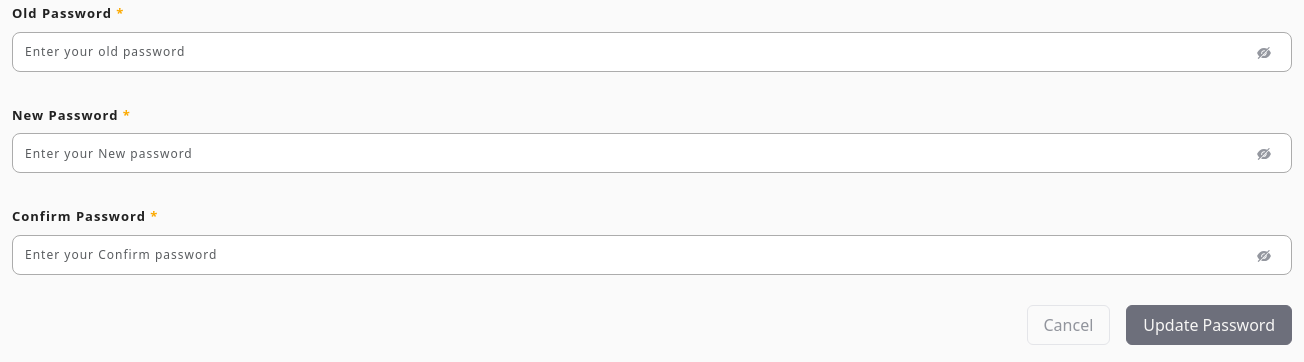
Test: displays an error if passwords do not match
Type "NewPassword1!" into the password field labelled "New Password *" at x=652, y=153, box x1=12 y1=133 x2=1292 y2=173
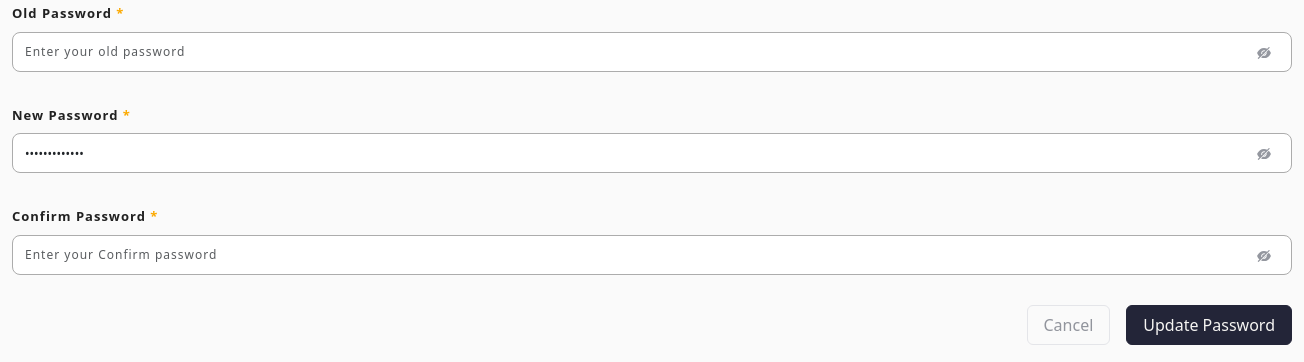
Type "DifferentPassword1!" into the password field labelled "Confirm Password *" at x=652, y=254, box x1=12 y1=234 x2=1292 y2=274
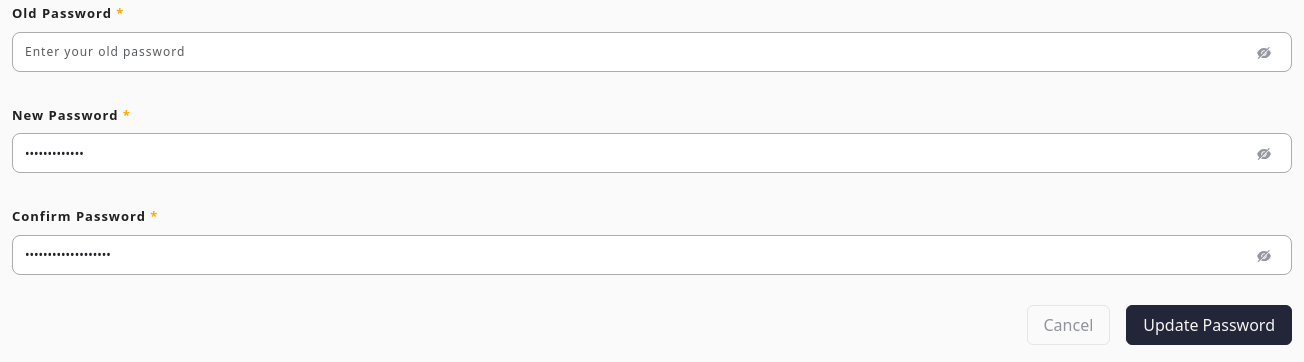
Click the button "Update Password" at x=1209, y=324, box x1=1126 y1=304 x2=1292 y2=344
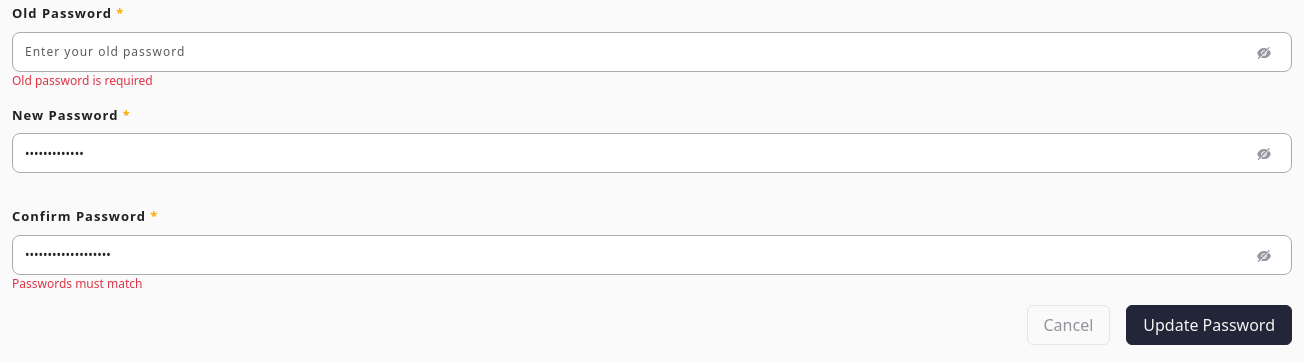
Now the text "Passwords must match" is shown, box x1=12 y1=274 x2=142 y2=292
